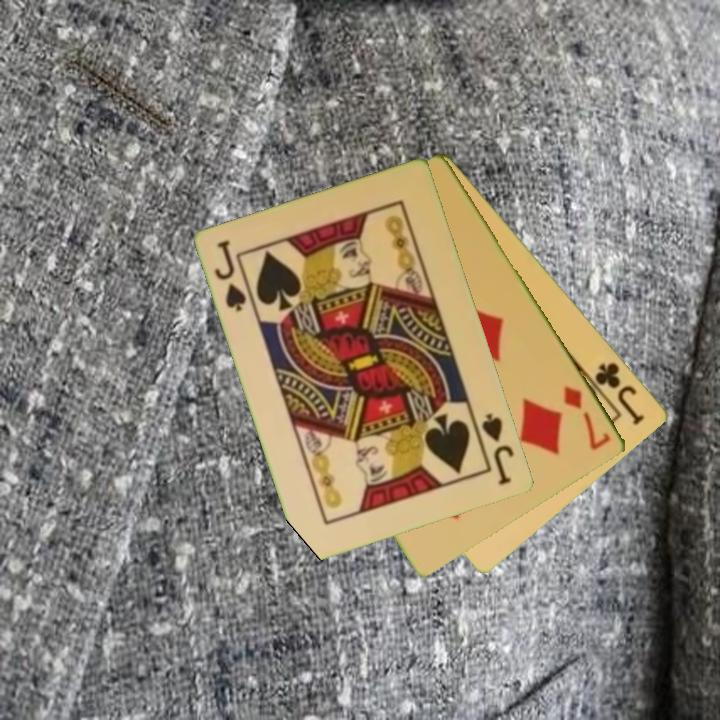7d: (560, 382, 614, 454)
Jc: (591, 358, 649, 428)
Js: (478, 409, 518, 489), (211, 237, 250, 315)
